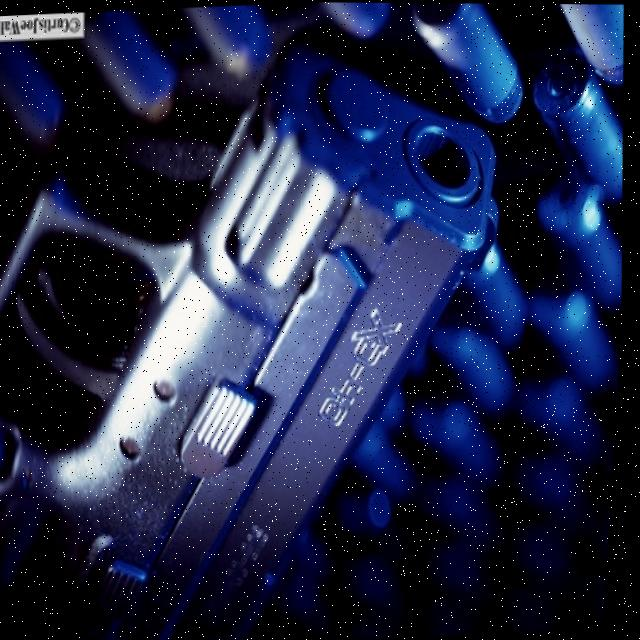pistol: (0, 30, 532, 640)
